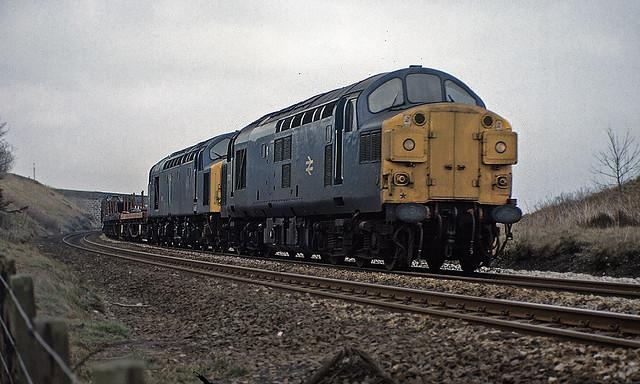Train: (99, 67, 523, 276)
